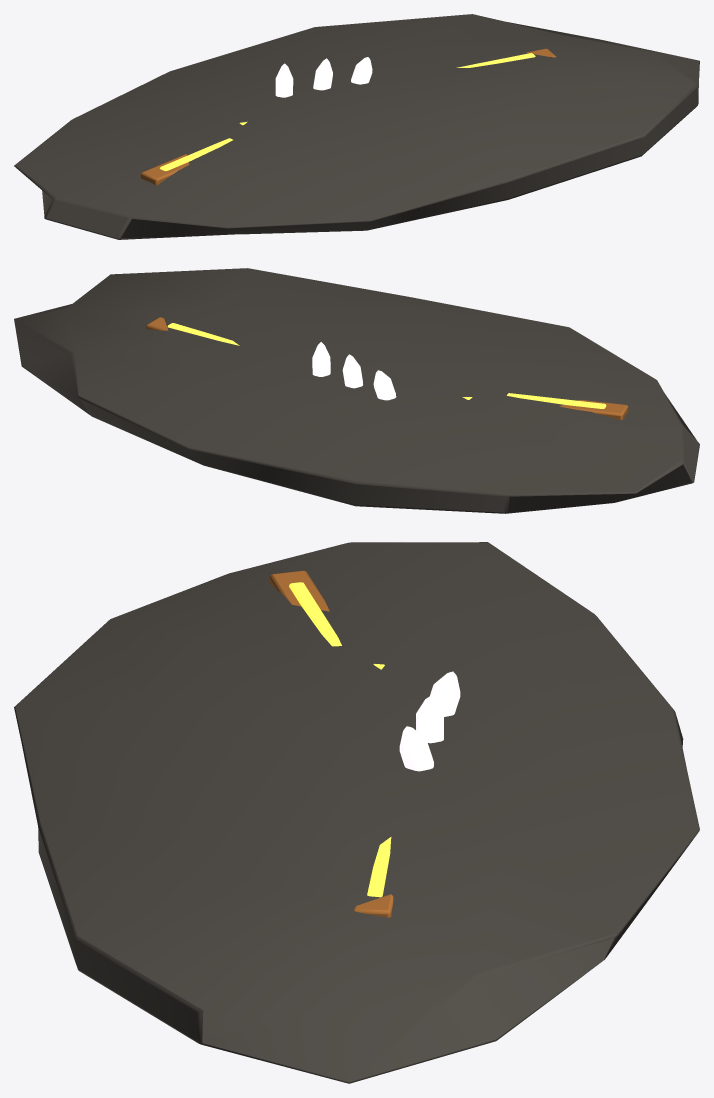
The model's file is erzader.fbx.
3 views of the same model, one above another, from view 1: azimuth 30°, elevation 25°; view 2: azimuth 150°, elevation 25°; view 3: azimuth 270°, elevation 25° (orthographic). The views are drawn at different scales.
Parts seen in each view (by area): view 1: erzader_Koerper; view 2: erzader_Koerper; view 3: erzader_Koerper.
Part boxes in pixels (left/top/right/bottom): erzader_Koerper: left=14, top=14, right=699, bottom=239; erzader_Koerper: left=14, top=268, right=699, bottom=513; erzader_Koerper: left=14, top=542, right=699, bottom=1083.
Size of the model in its own units: 3.79 by 0.507 by 2.12.
